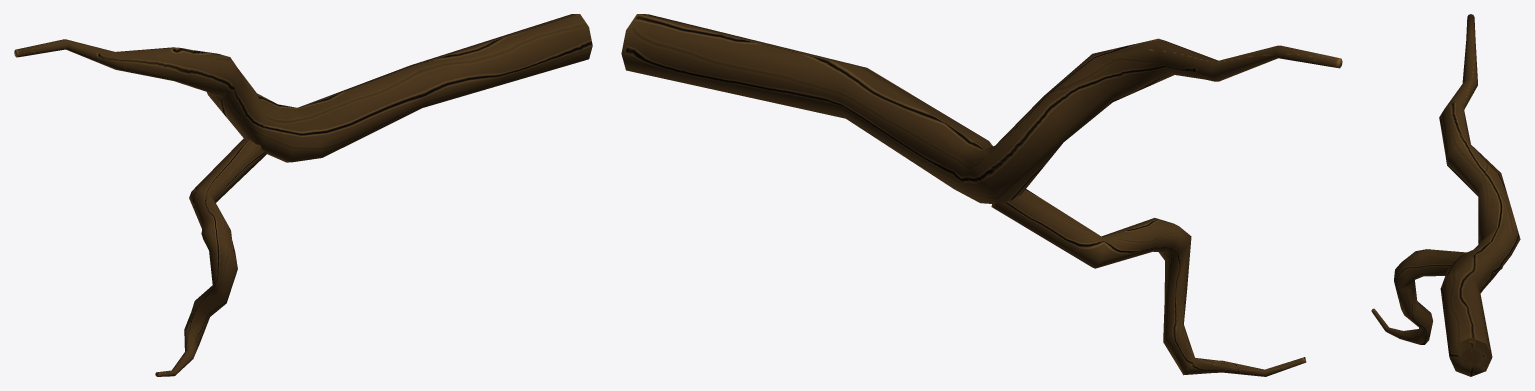
3 views of the same model, side by side, from view 1: azimuth 30°, elevation 25°; view 2: azimuth 150°, elevation 25°; view 3: azimuth 270°, elevation 25° (orthographic). The views are drawn at different scales.
Visible parts, largest first — view 1: Root02_LOD0; view 2: Root02_LOD0; view 3: Root02_LOD0.
Part boxes in pixels (x1=…): Root02_LOD0: x1=14, y1=14, x2=592, y2=376; Root02_LOD0: x1=621, y1=14, x2=1342, y2=376; Root02_LOD0: x1=1371, y1=14, x2=1520, y2=376.
Size of what is drawn, in the model's own units: 137 by 73.49 by 36.41.
1 material, 1 textured.
